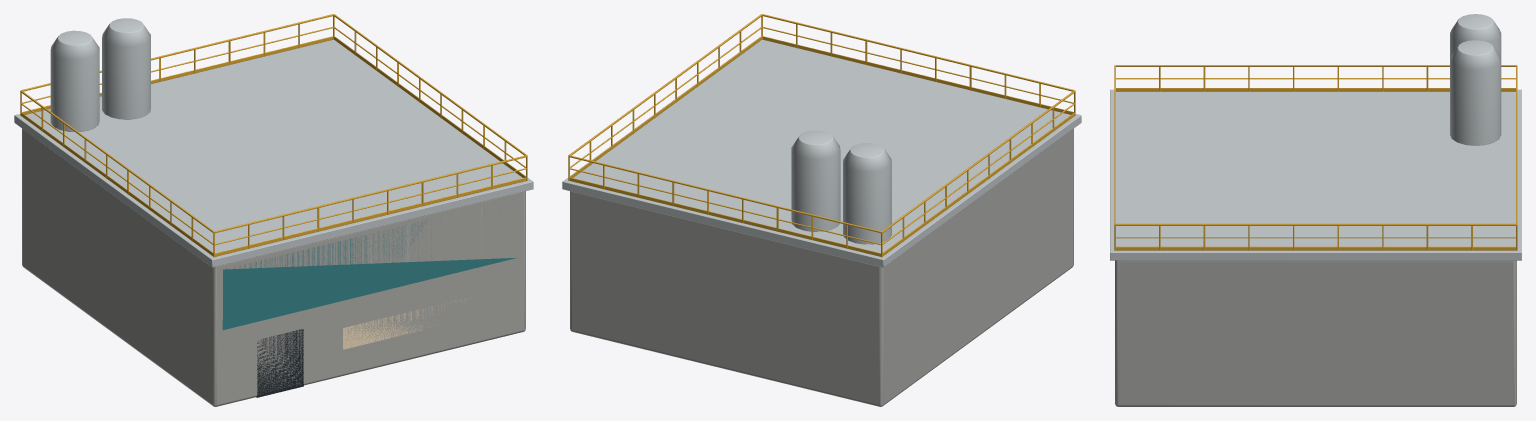
The model's file is hero_tower_base.fbx.
The picture shows the model from 3 angles, left to right: view 1: azimuth 30°, elevation 25°; view 2: azimuth 150°, elevation 25°; view 3: azimuth 270°, elevation 25°; orthographic projection. The views are drawn at different scales.
Visible parts, largest first — view 1: hero_tower_base; view 2: hero_tower_base; view 3: hero_tower_base.
Part boxes in pixels (left/top/right/bottom): hero_tower_base: left=14, top=14, right=533, bottom=406; hero_tower_base: left=562, top=14, right=1081, bottom=406; hero_tower_base: left=1110, top=14, right=1521, bottom=406.
Bounding box in the file's own units: 15 × 10.6 × 16.
